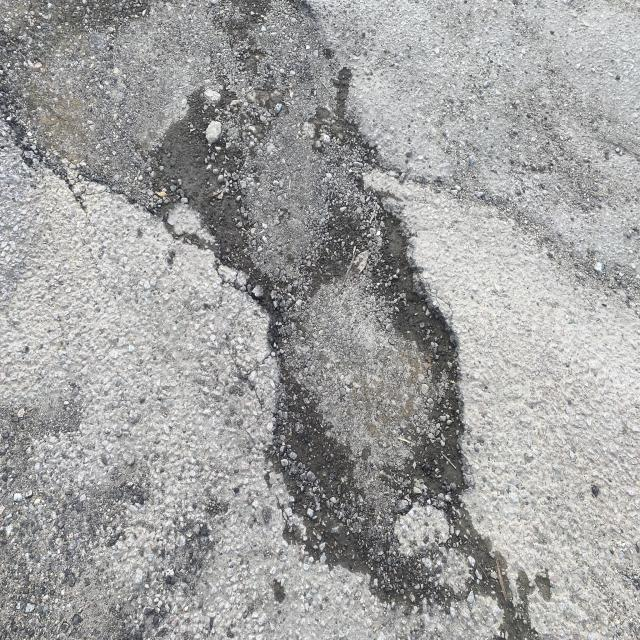Pothole: (106, 135, 540, 562)
